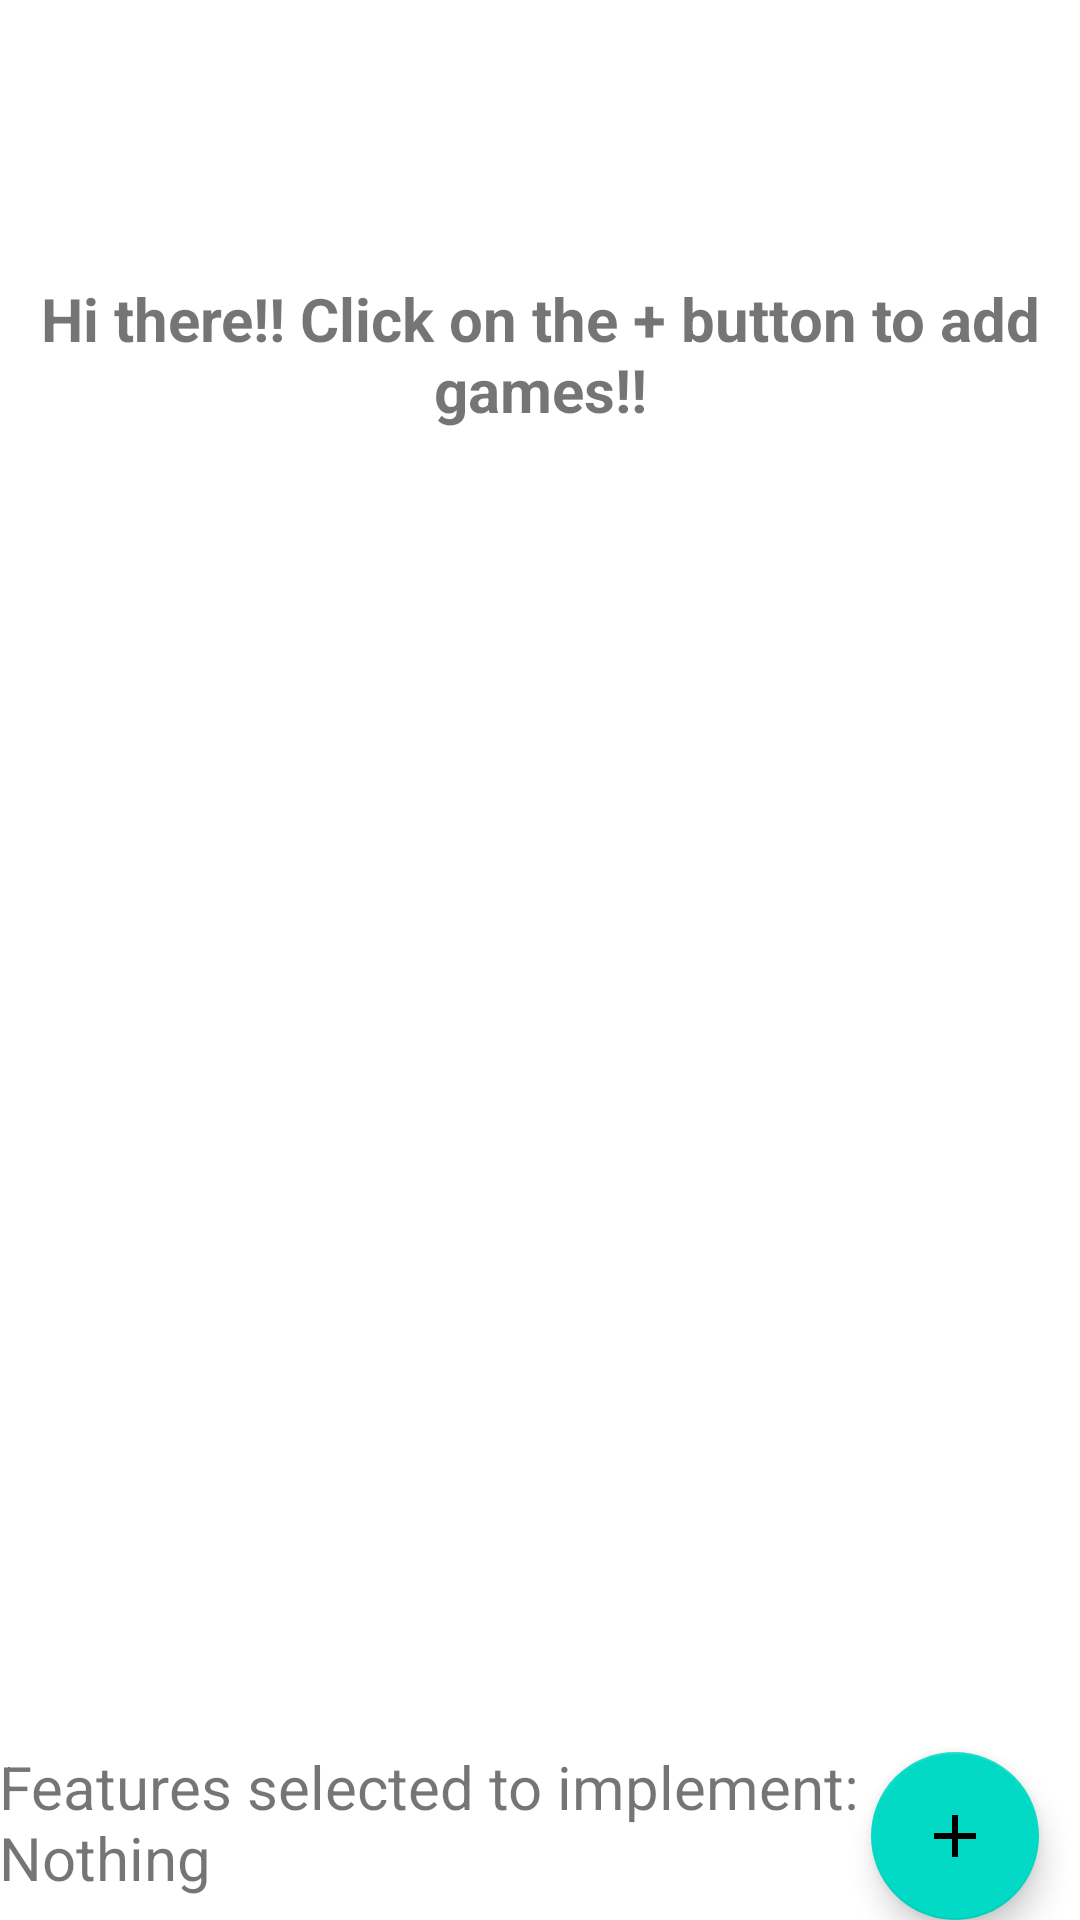

Icons on this 1080px x 1920px Android screen, each with its box as rect(x1, y1, x2, y2):
plus: rect(871, 1752, 1039, 1920)
